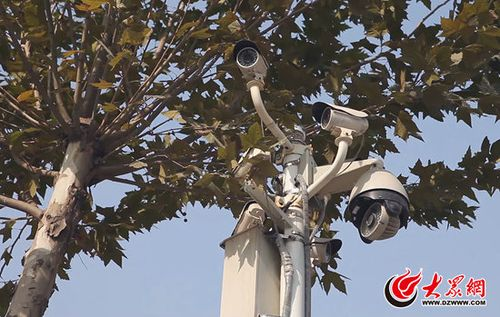camera: (341, 175, 408, 243), (313, 100, 370, 140), (232, 40, 270, 90)
